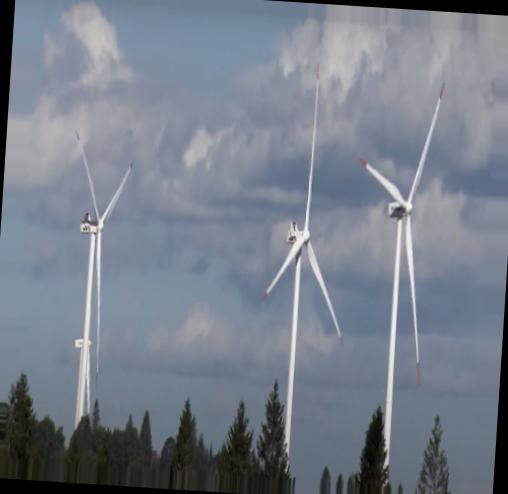wind turbine: (258, 63, 347, 473), (358, 80, 447, 478), (69, 129, 136, 421)
